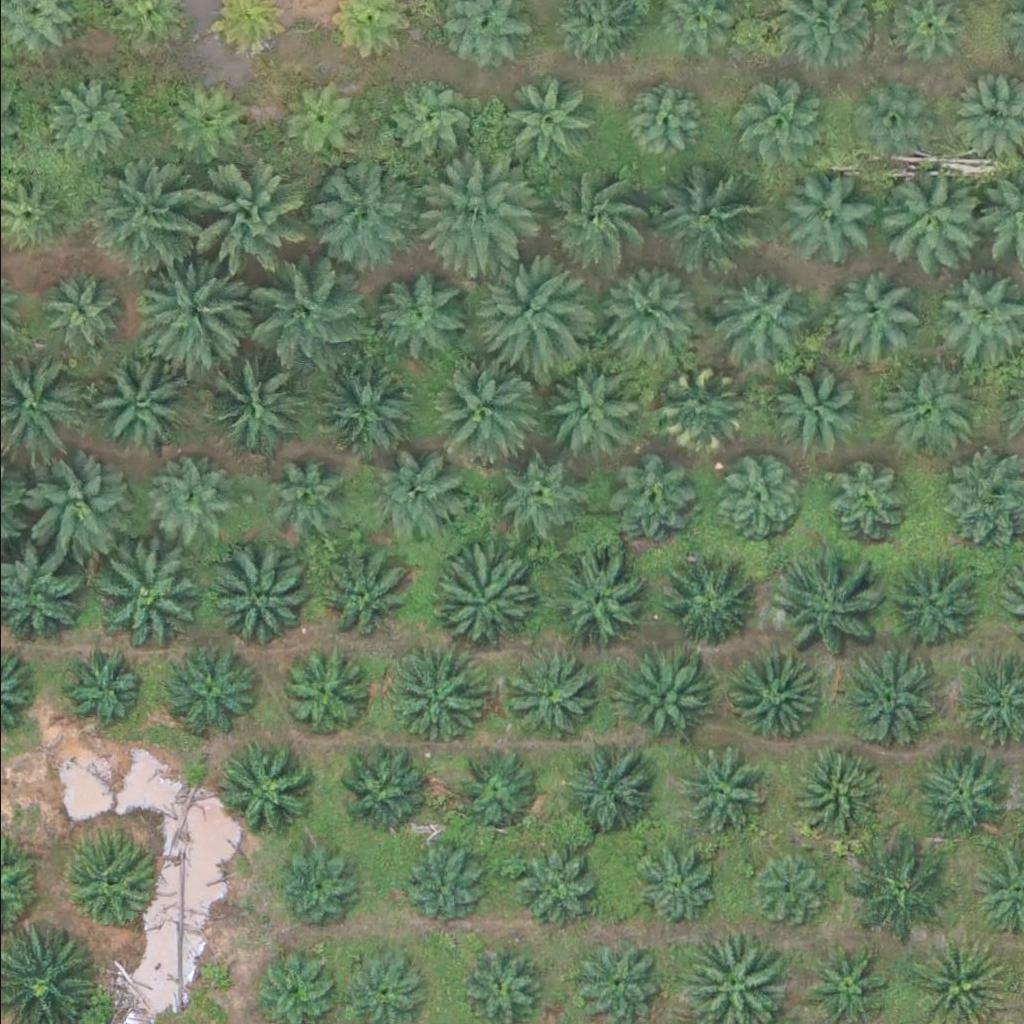Kelapa_Sawit: (190, 345, 304, 458), (867, 162, 981, 275), (764, 552, 877, 665), (89, 538, 202, 651), (245, 262, 358, 375), (87, 161, 200, 274), (848, 837, 961, 950), (14, 451, 127, 564), (203, 544, 317, 656), (467, 261, 581, 373), (182, 167, 296, 279), (643, 162, 757, 274), (422, 358, 535, 470), (140, 257, 253, 369), (309, 154, 422, 266), (424, 154, 537, 266), (537, 158, 650, 270), (786, 740, 887, 840), (557, 742, 658, 842), (325, 738, 426, 838), (209, 739, 310, 839), (381, 648, 482, 748), (653, 552, 754, 652), (541, 548, 642, 648), (425, 548, 526, 648), (87, 357, 188, 457), (536, 363, 637, 463), (375, 262, 476, 362), (775, 174, 876, 274), (491, 73, 592, 173), (877, 358, 978, 458), (881, 556, 982, 656), (838, 650, 939, 750), (906, 745, 1007, 845), (54, 833, 154, 933), (720, 647, 820, 747), (615, 648, 715, 748), (154, 641, 254, 741), (310, 550, 410, 650), (366, 451, 466, 551), (310, 358, 410, 458), (594, 257, 694, 357), (617, 75, 706, 163), (742, 848, 830, 936), (635, 837, 723, 925), (507, 841, 595, 929), (405, 834, 493, 922), (674, 750, 762, 838), (272, 650, 360, 738), (59, 642, 147, 730), (828, 267, 916, 355), (712, 268, 800, 356), (34, 269, 122, 357), (728, 83, 816, 171), (278, 72, 366, 160), (155, 77, 243, 165), (270, 841, 358, 928), (452, 746, 540, 833), (508, 655, 596, 742), (814, 458, 902, 545), (705, 455, 793, 542), (606, 458, 694, 545), (489, 455, 577, 542), (245, 455, 333, 542), (140, 460, 228, 547), (653, 365, 741, 452), (768, 364, 856, 451), (380, 75, 468, 162), (46, 76, 134, 163), (850, 87, 926, 162)
